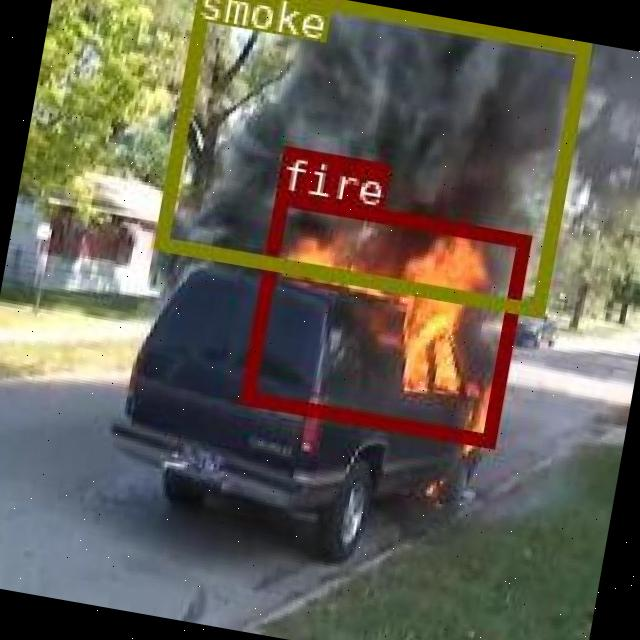fire: (239, 190, 528, 446)
smoke: (150, 0, 589, 315)
